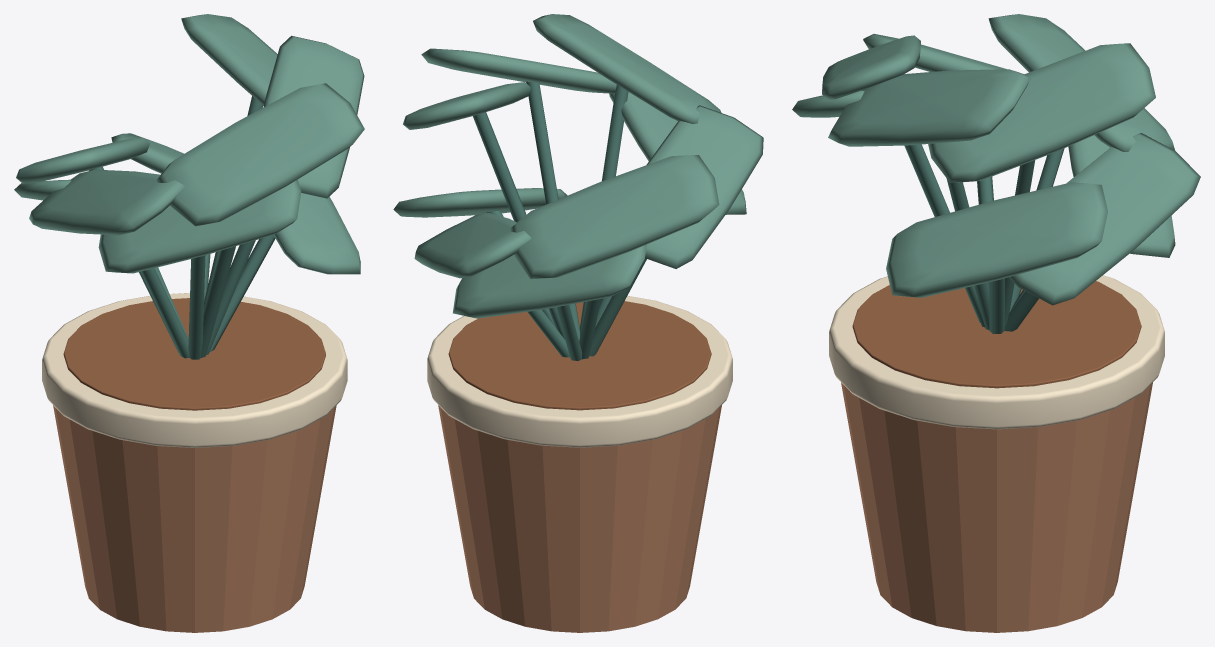
Rendered from coastal-planter.glb.
3 views of the same model, side by side, from view 1: azimuth 30°, elevation 25°; view 2: azimuth 150°, elevation 25°; view 3: azimuth 270°, elevation 25° (orthographic). The views are drawn at different scales.
Visible parts, largest first — view 1: coastal-planter / Sea glass upholstery, coastal-planter / Terracotta cushion, coastal-planter / Oak endgrain, coastal-planter / Ivory stone, coastal-planter / Sea glass runner; view 2: coastal-planter / Sea glass upholstery, coastal-planter / Terracotta cushion, coastal-planter / Oak endgrain, coastal-planter / Ivory stone, coastal-planter / Sea glass runner; view 3: coastal-planter / Sea glass upholstery, coastal-planter / Terracotta cushion, coastal-planter / Oak endgrain, coastal-planter / Ivory stone, coastal-planter / Sea glass runner.
Part boxes in pixels (box(x1,y1,x2,y2)): coastal-planter / Sea glass upholstery: box(14, 14, 364, 274); coastal-planter / Terracotta cushion: box(53, 405, 336, 632); coastal-planter / Oak endgrain: box(63, 298, 325, 410); coastal-planter / Ivory stone: box(42, 293, 347, 447); coastal-planter / Sea glass runner: box(89, 96, 275, 359); coastal-planter / Sea glass upholstery: box(393, 14, 763, 318); coastal-planter / Terracotta cushion: box(438, 405, 721, 632); coastal-planter / Oak endgrain: box(448, 301, 711, 410); coastal-planter / Ivory stone: box(427, 295, 732, 447); coastal-planter / Sea glass runner: box(473, 81, 646, 360); coastal-planter / Sea glass upholstery: box(792, 14, 1200, 305); coastal-planter / Terracotta cushion: box(841, 382, 1152, 632); coastal-planter / Oak endgrain: box(852, 281, 1141, 388); coastal-planter / Ivory stone: box(829, 275, 1164, 429); coastal-planter / Sea glass runner: box(904, 144, 1064, 333).
Size of the model in its own units: 0.7734 by 1.19 by 0.7785.
